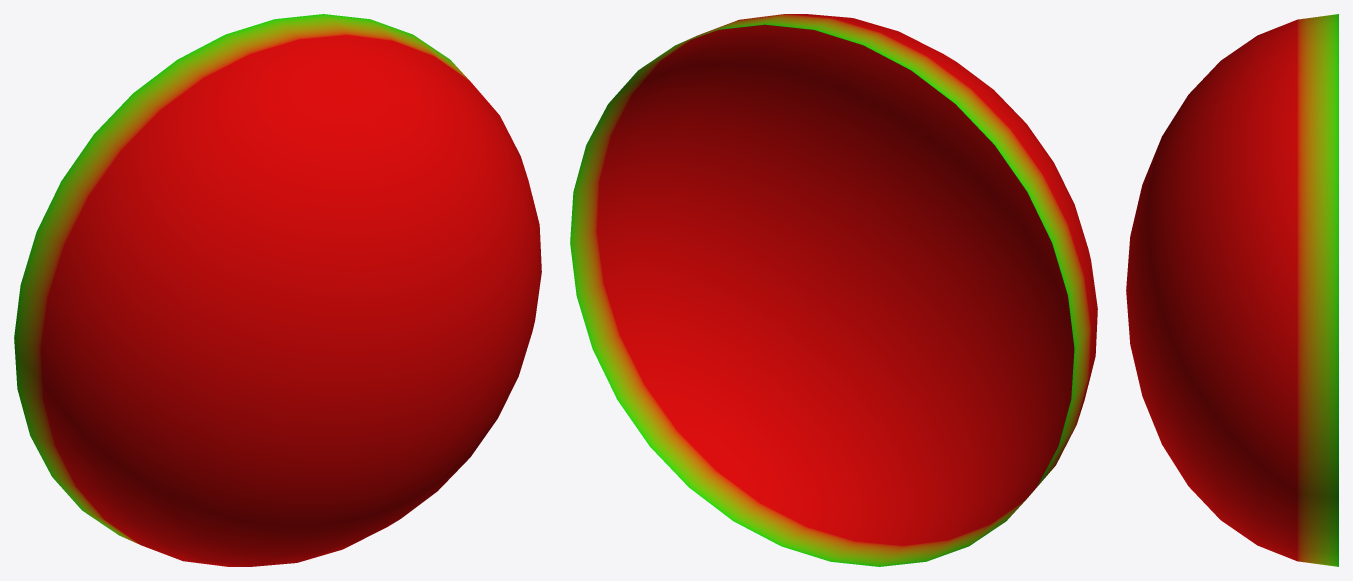
The model's file is SM_Kaiser_RefracShield_01.FBX.
3 renders of one model, left to right at view 1: azimuth 30°, elevation 25°; view 2: azimuth 150°, elevation 25°; view 3: azimuth 270°, elevation 25°, orthographic. The views are drawn at different scales.
Parts seen in each view (by area): view 1: SM_Kaiser_RefracShield_01; view 2: SM_Kaiser_RefracShield_01; view 3: SM_Kaiser_RefracShield_01.
Part boxes in pixels (box(x1,y1,x2,y2)): SM_Kaiser_RefracShield_01: box(14, 14, 541, 566); SM_Kaiser_RefracShield_01: box(570, 14, 1097, 566); SM_Kaiser_RefracShield_01: box(1126, 14, 1338, 566).
Bounding box in the file's own units: 1174 × 451 × 1174.
